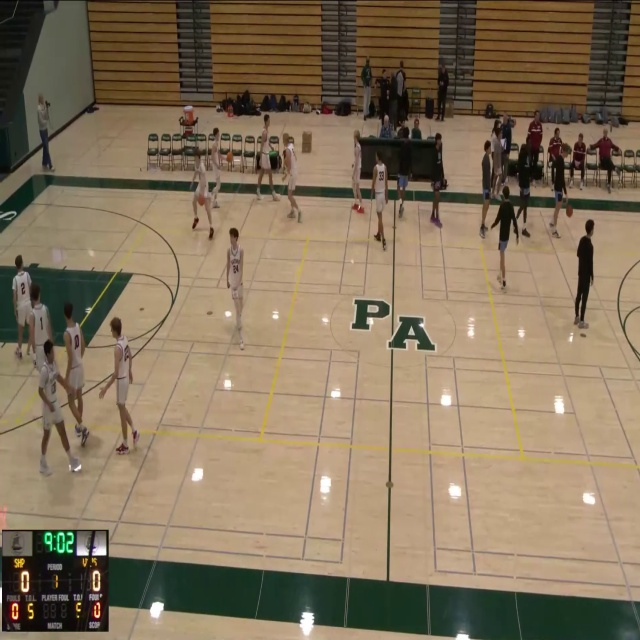Basketball: (197, 194, 205, 205), (566, 205, 573, 217), (226, 152, 233, 162)
